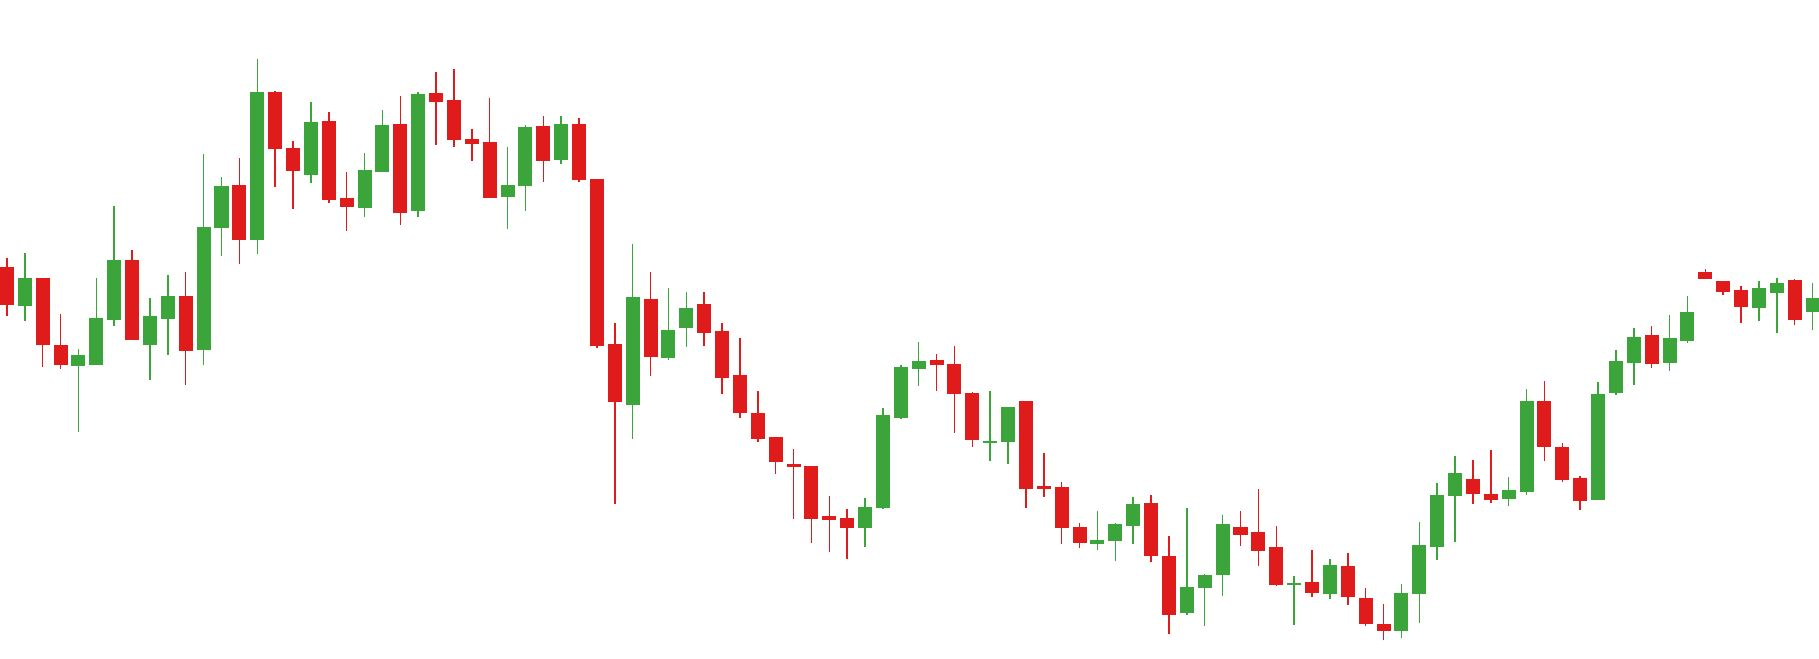buy: (1160, 533, 1411, 640)
sell: (300, 73, 443, 174)
